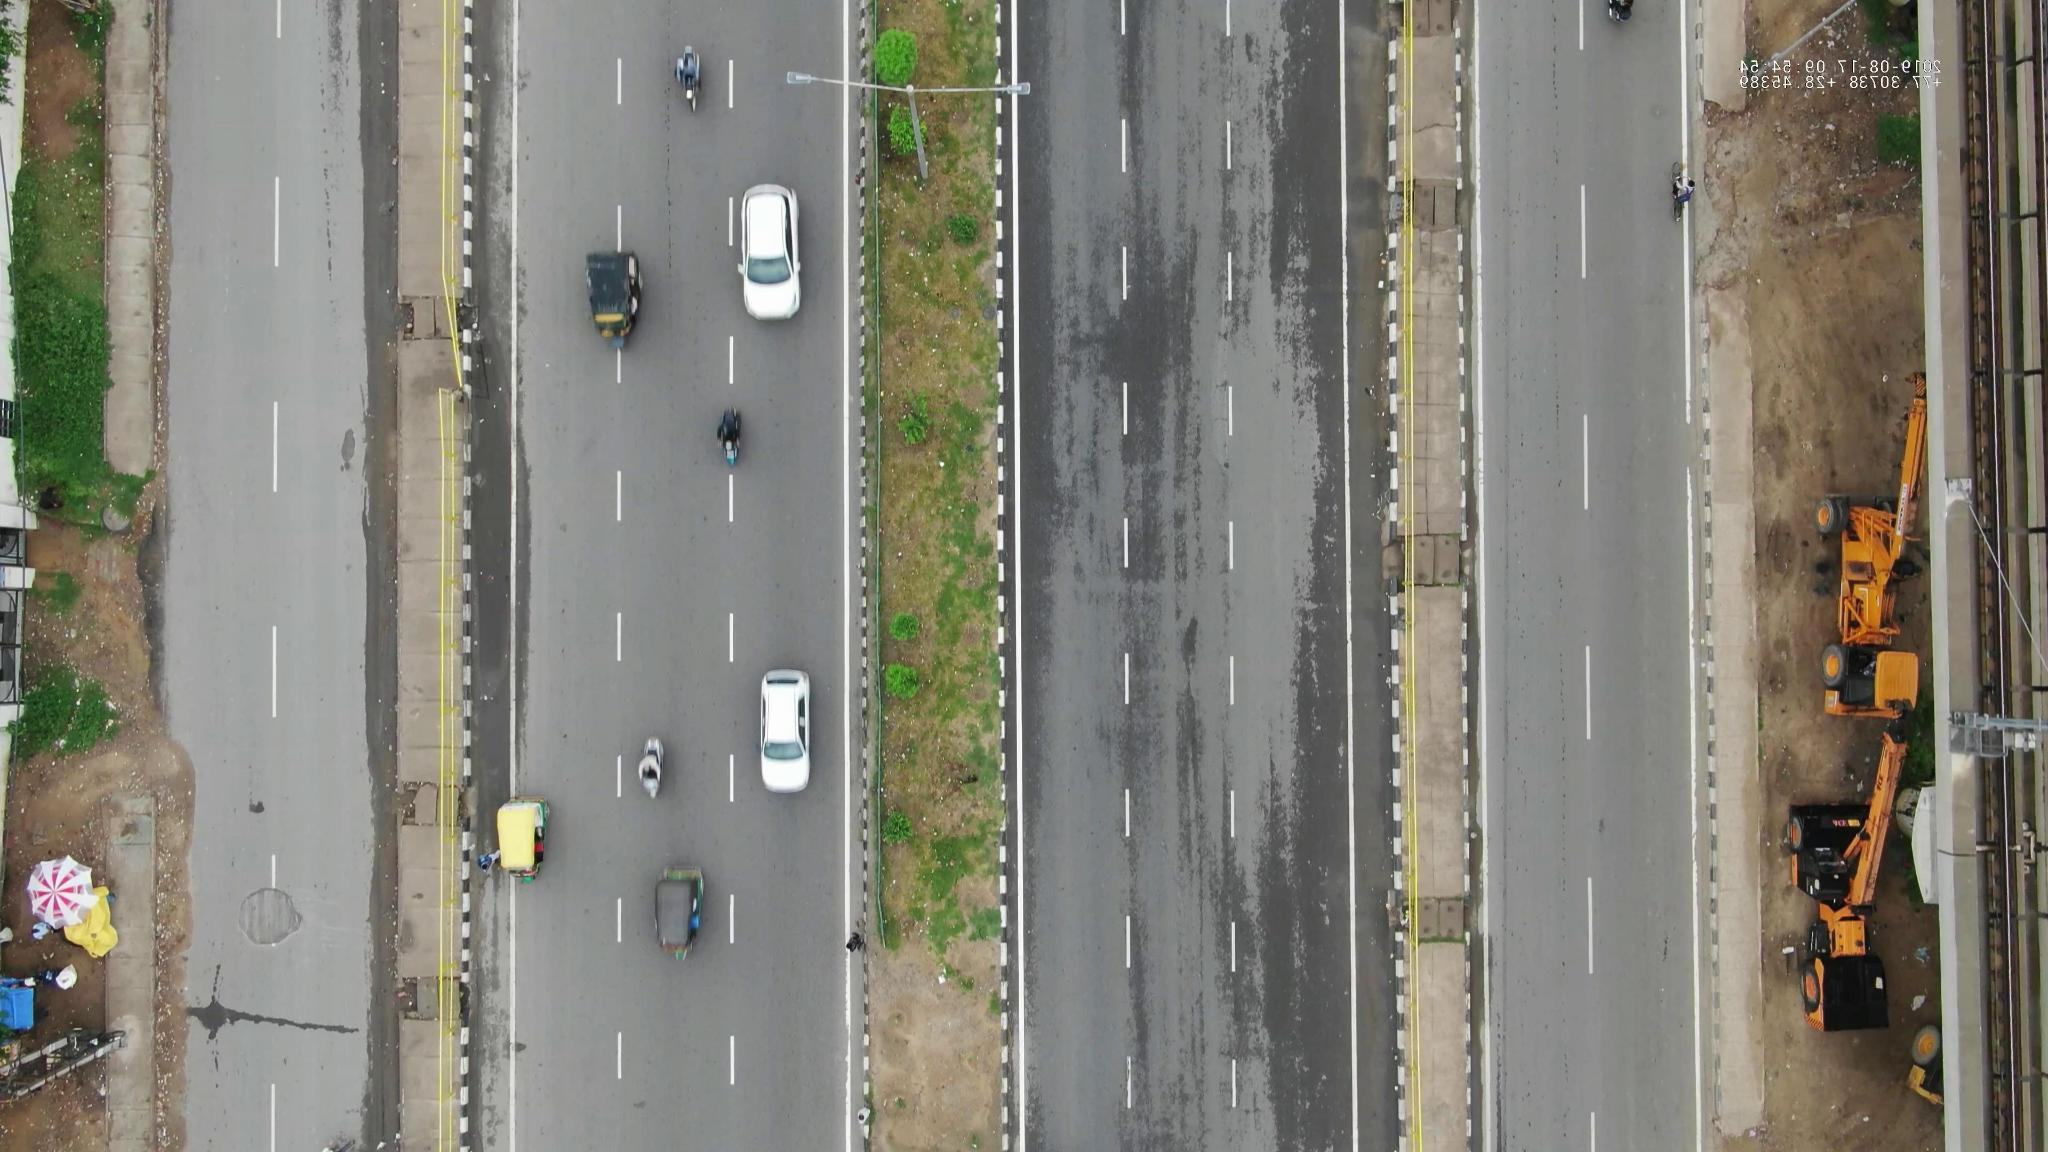Muddy_road: (159, 920, 207, 1146), (151, 748, 212, 909)
